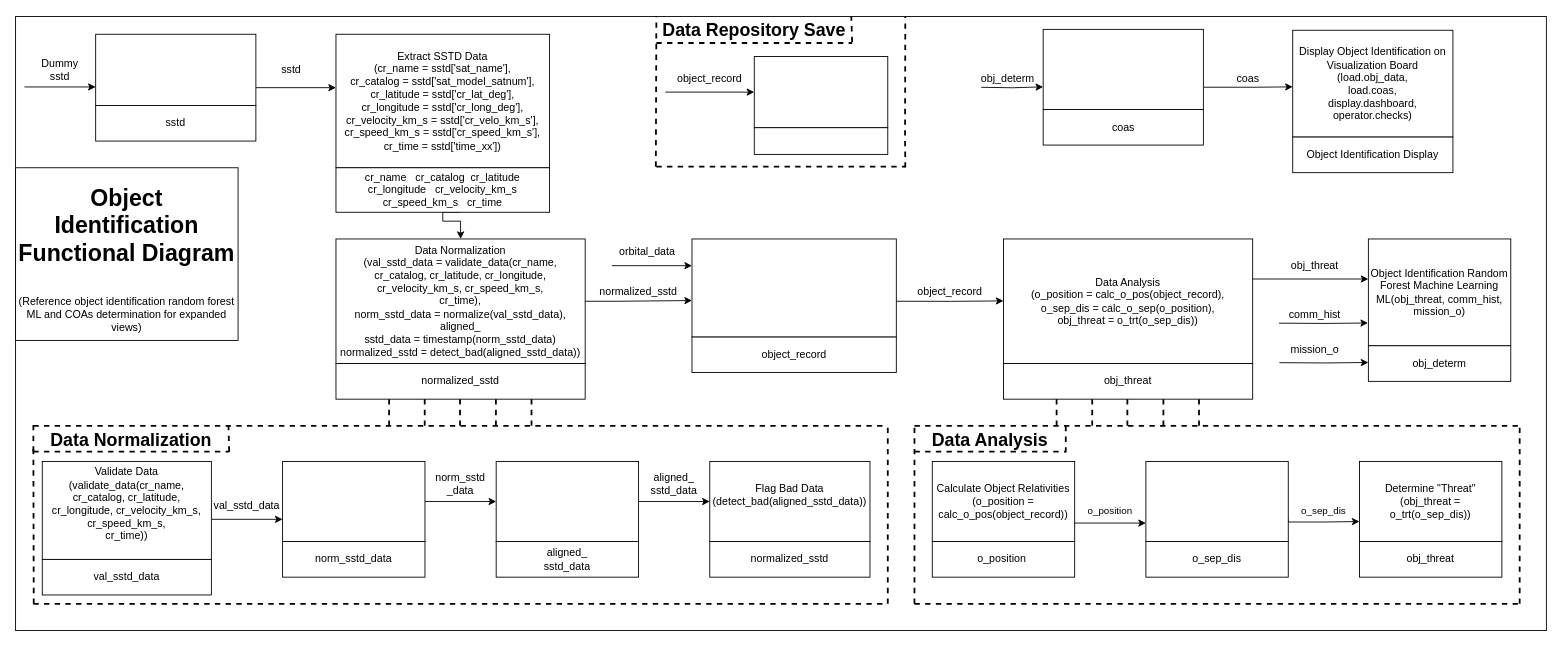
Some shapes in this 1562 by 646 pixel diagram are drawn without their labels. The centre of each missing label's shape, as x and y in pixels:
"Align by Timestamp ( timestamp( norm_sstd_data ) )" goes at point 567,501.
"Calculate Separation Distance (o_sep_dis = calc_o_sep(o_position))" goes at point 1216,501.
"COAs Determination COAs(obj_determ)" goes at point 1122,68.
"Generate Object Record (object_record = o_rec( orbital_data, normalized_sstd))" goes at point 793,287.
"Normalize into Usable Format (normalize( val_sstd_data ))" goes at point 353,501.
"obj_data.json" goes at point 820,140.
"Request SSTD Data import dummy_gen as dg { sda_sstd: dg.sstd(dummy_data) }" goes at point 175,69.
"Save to Data Repository (json.dump(object_record)" goes at point 820,92.
